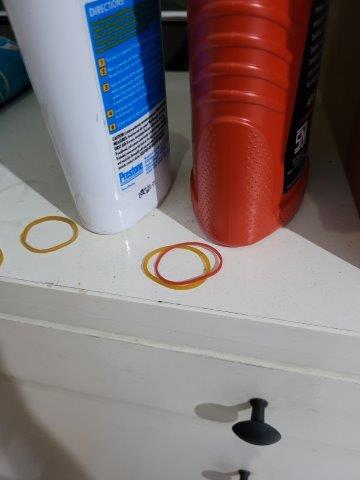karet: (142, 241, 225, 291), (16, 217, 82, 251)
